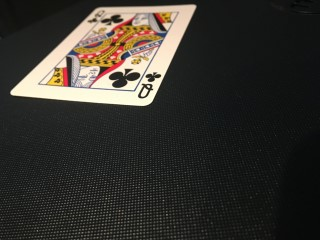QueenOfClubs: (10, 4, 196, 107)
